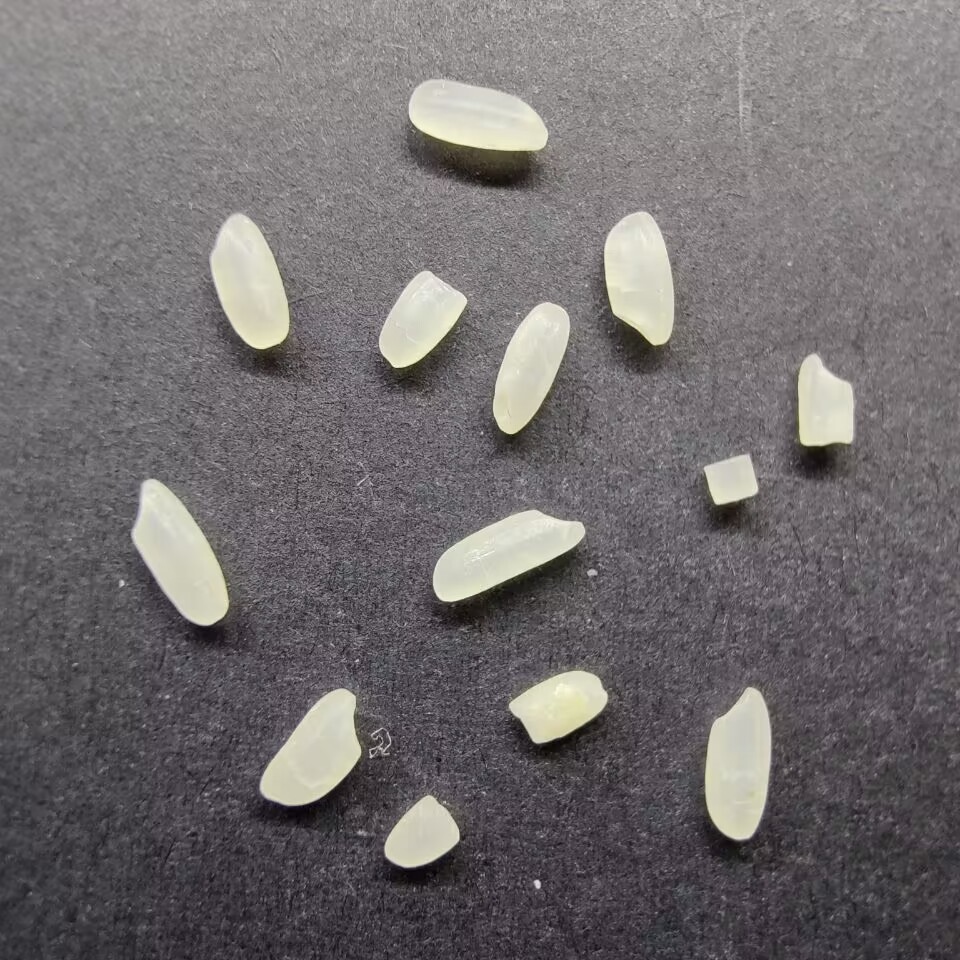broken: (375, 269, 467, 368), (509, 669, 611, 745), (381, 793, 461, 869), (794, 351, 856, 448), (703, 451, 759, 508)
rice: (127, 477, 230, 627), (430, 506, 586, 604), (254, 686, 364, 808), (208, 210, 291, 351), (701, 685, 773, 841), (491, 299, 571, 437), (406, 77, 551, 151), (602, 211, 676, 348)
